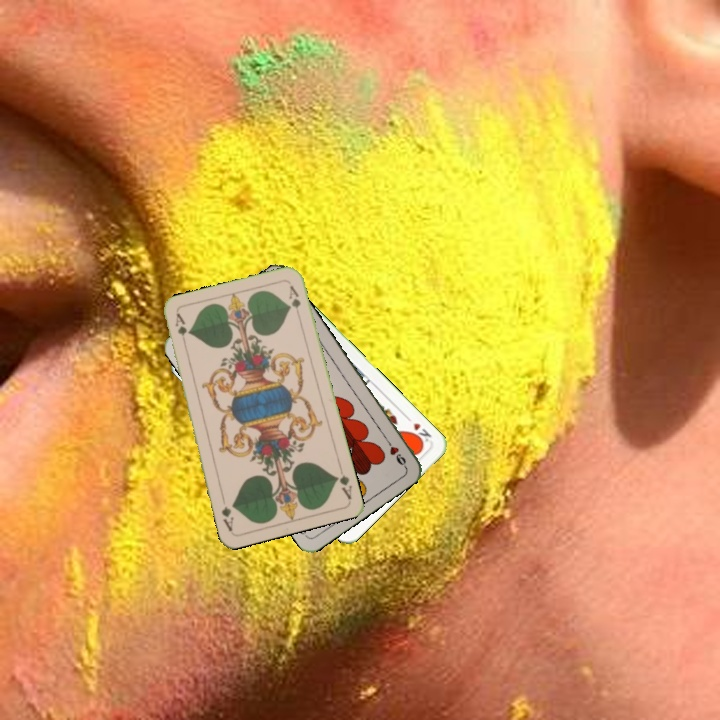GA: (331, 462, 354, 502), (171, 310, 189, 350)
H9: (381, 434, 409, 470)
HK: (401, 412, 434, 448)
